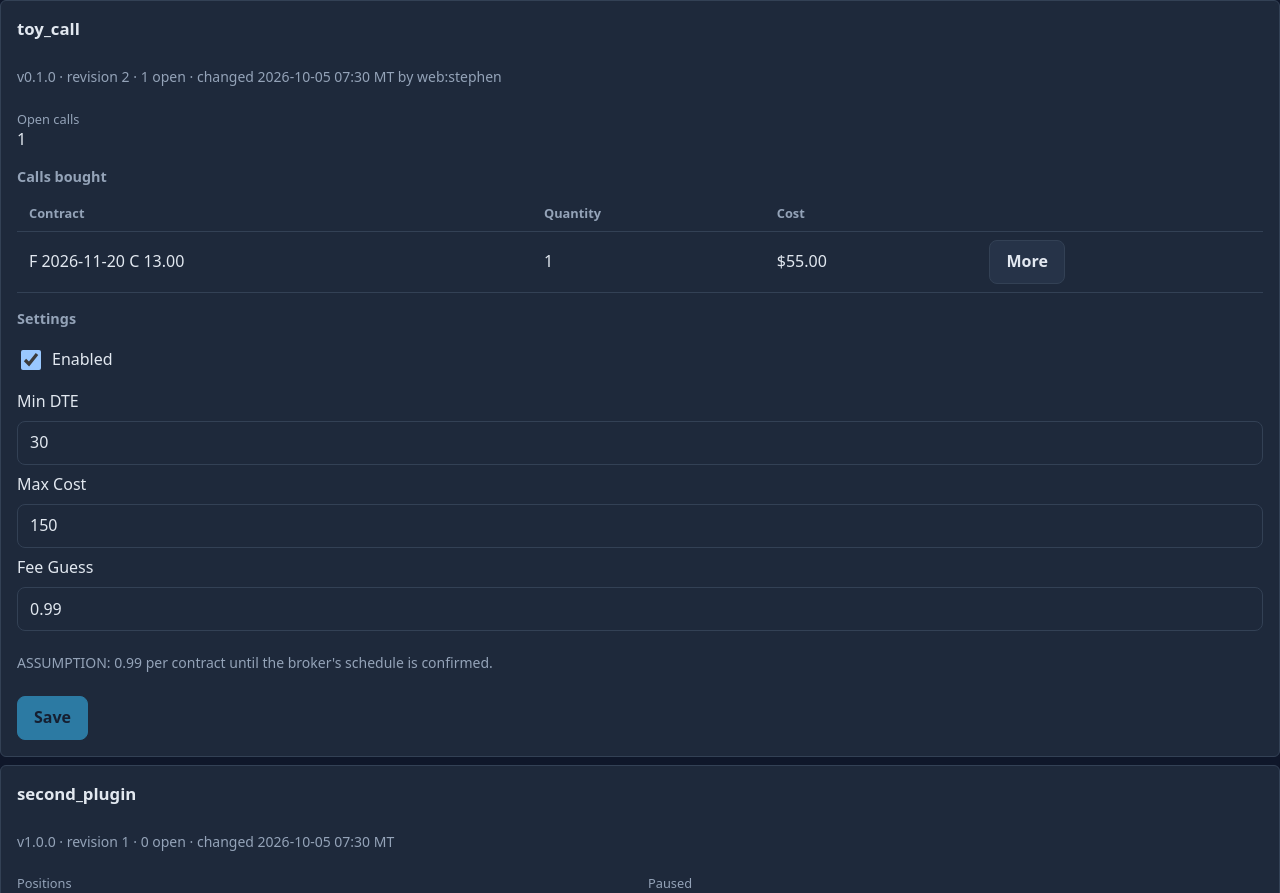
Test case: StrategiesTab › the Enabled switch saves only `enabled`, and warns while positions are open
Expected: the button "Save" is disabled, x1=17 y1=696 x2=88 y2=740
Click the checkbox labelled "Enabled": click(31, 360) x1=21 y1=350 x2=41 y2=370
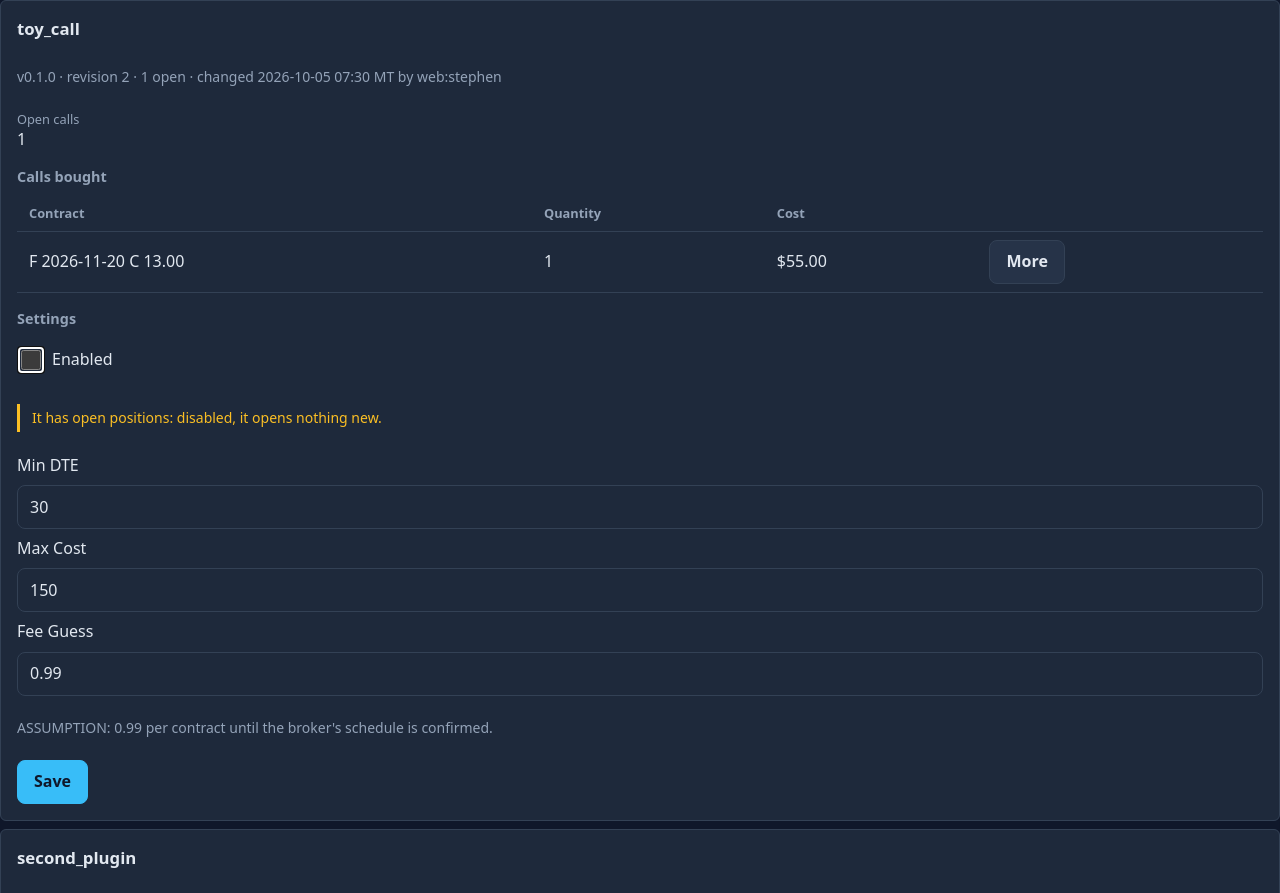
Now the text "It has open positions: disabled, it opens nothing new." is shown, box x1=17 y1=404 x2=1263 y2=432
Click the button "Save": click(52, 782) x1=17 y1=760 x2=88 y2=804
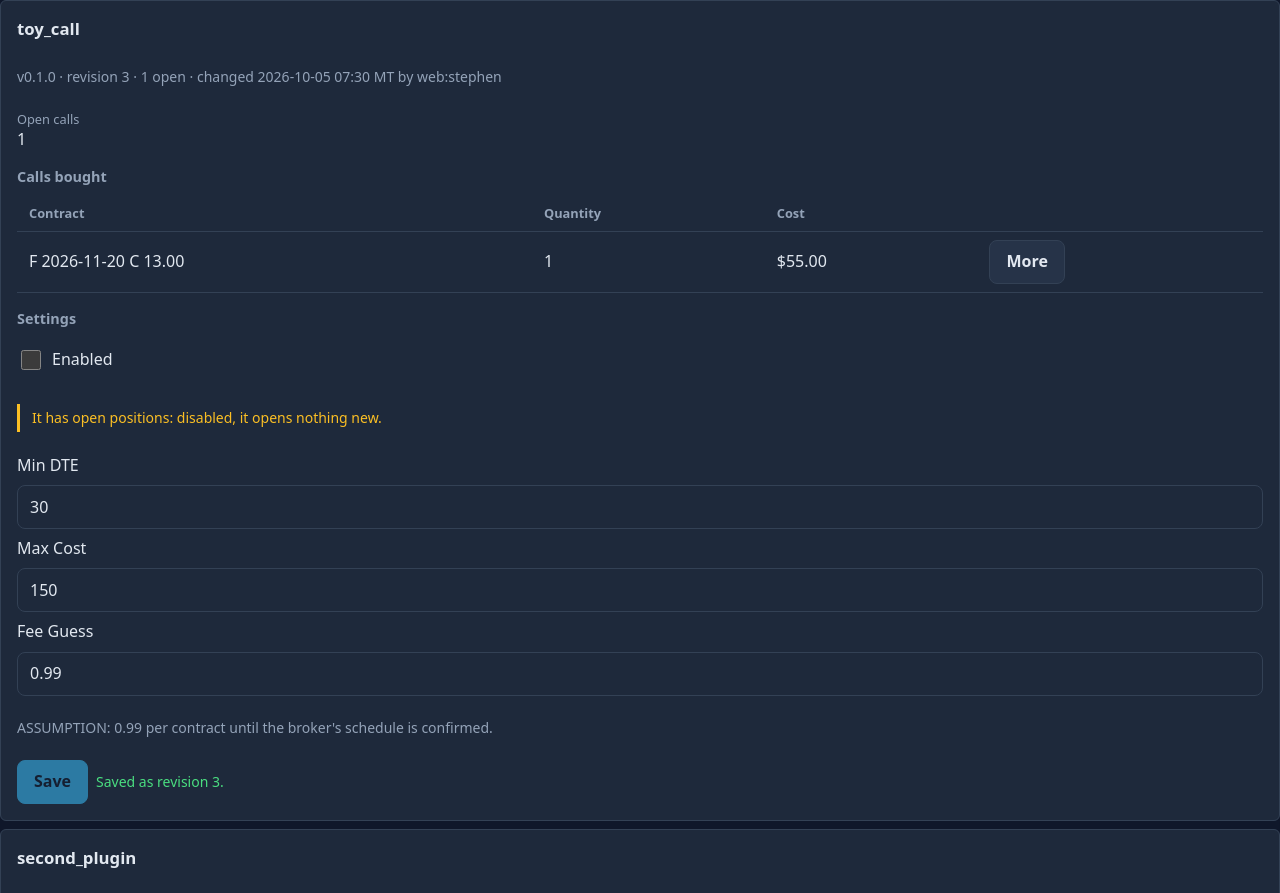
Now the text "Saved as revision 3." is shown, box x1=96 y1=772 x2=224 y2=792
